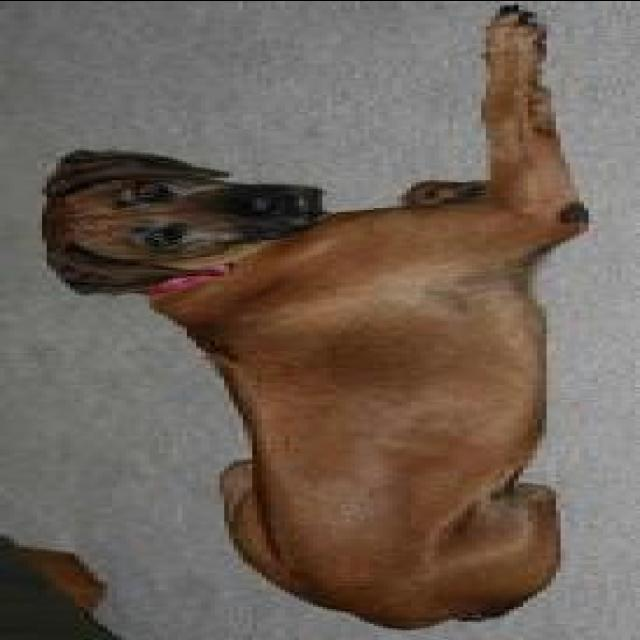rhodesian_ridgeback: (28, 6, 594, 634)
